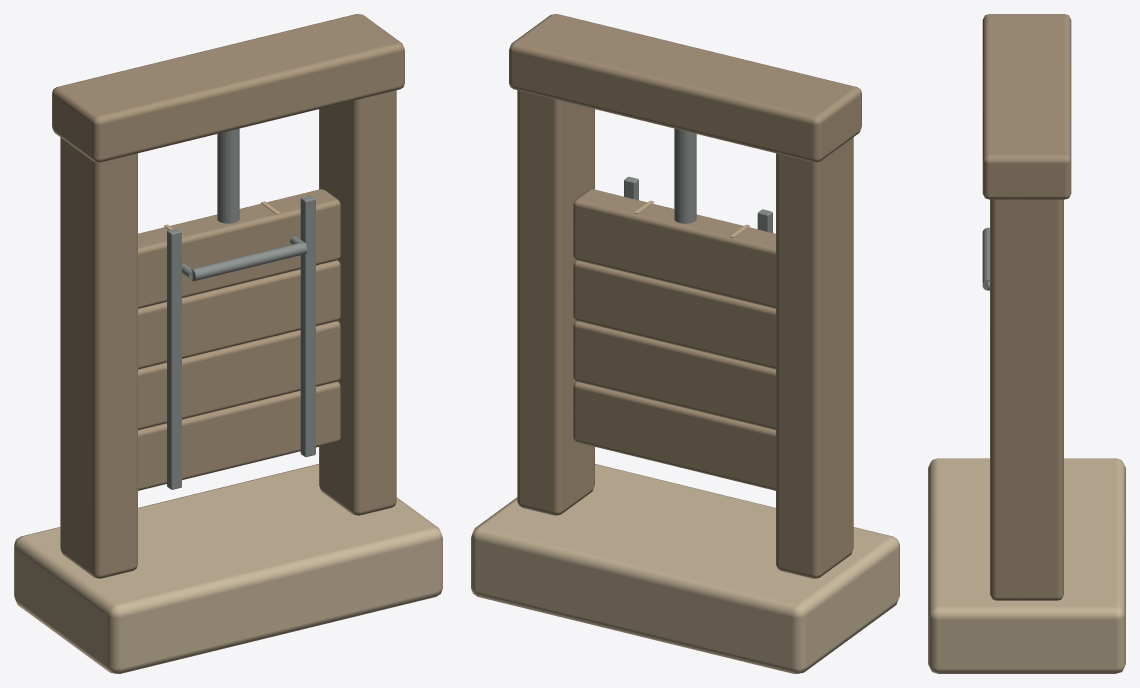
Rendered from coastal-saltworks-and-trade-port-coastal-saltworks-and-d03875a7__31370.glb.
The picture shows the model from 3 angles, left to right: view 1: azimuth 30°, elevation 25°; view 2: azimuth 150°, elevation 25°; view 3: azimuth 270°, elevation 25°; orthographic projection. The views are drawn at different scales.
Visible parts, largest first — view 1: coastal-saltworks-and-trade-port-timber-sluice-gate; view 2: coastal-saltworks-and-trade-port-timber-sluice-gate; view 3: coastal-saltworks-and-trade-port-timber-sluice-gate.
Boxes of the visible parts, bbox=[...] form: coastal-saltworks-and-trade-port-timber-sluice-gate: bbox=[14, 14, 442, 673]; coastal-saltworks-and-trade-port-timber-sluice-gate: bbox=[471, 14, 899, 673]; coastal-saltworks-and-trade-port-timber-sluice-gate: bbox=[928, 14, 1125, 673].
Bounding box in the file's own units: 0.75 × 1.15 × 0.4001.
